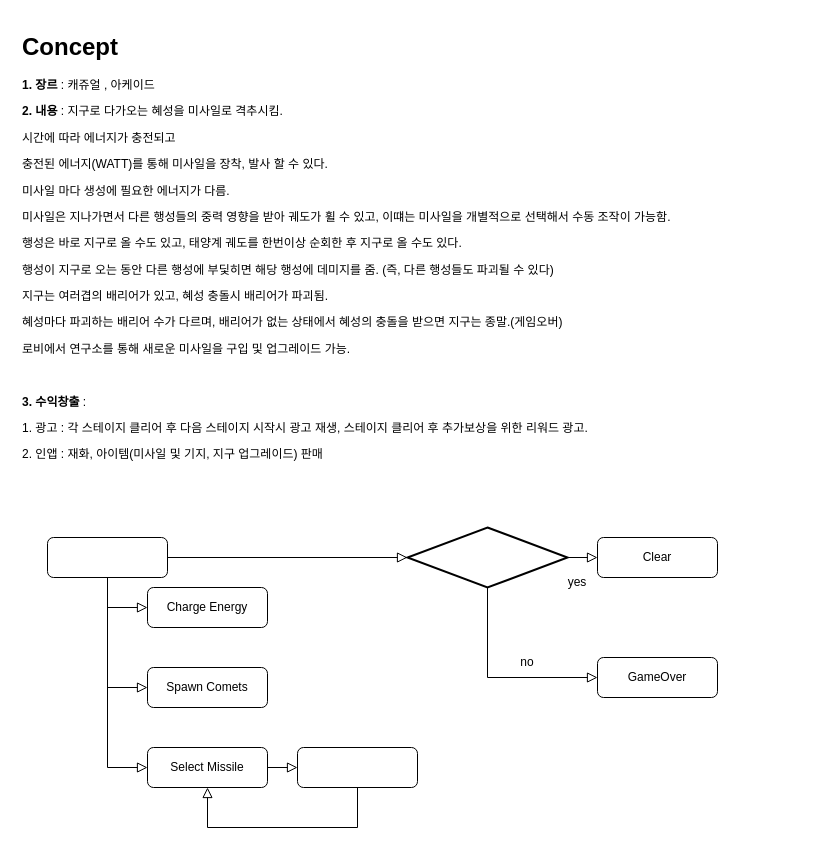
Image size: 814x855. Some labels were removed from this diagram. The centre of each missing label's shape, as x and y in pixels:
"All Comets Destroyed?" belongs at (487,557).
"GameStart" belongs at (107,557).
"Launch" belongs at (357,767).
